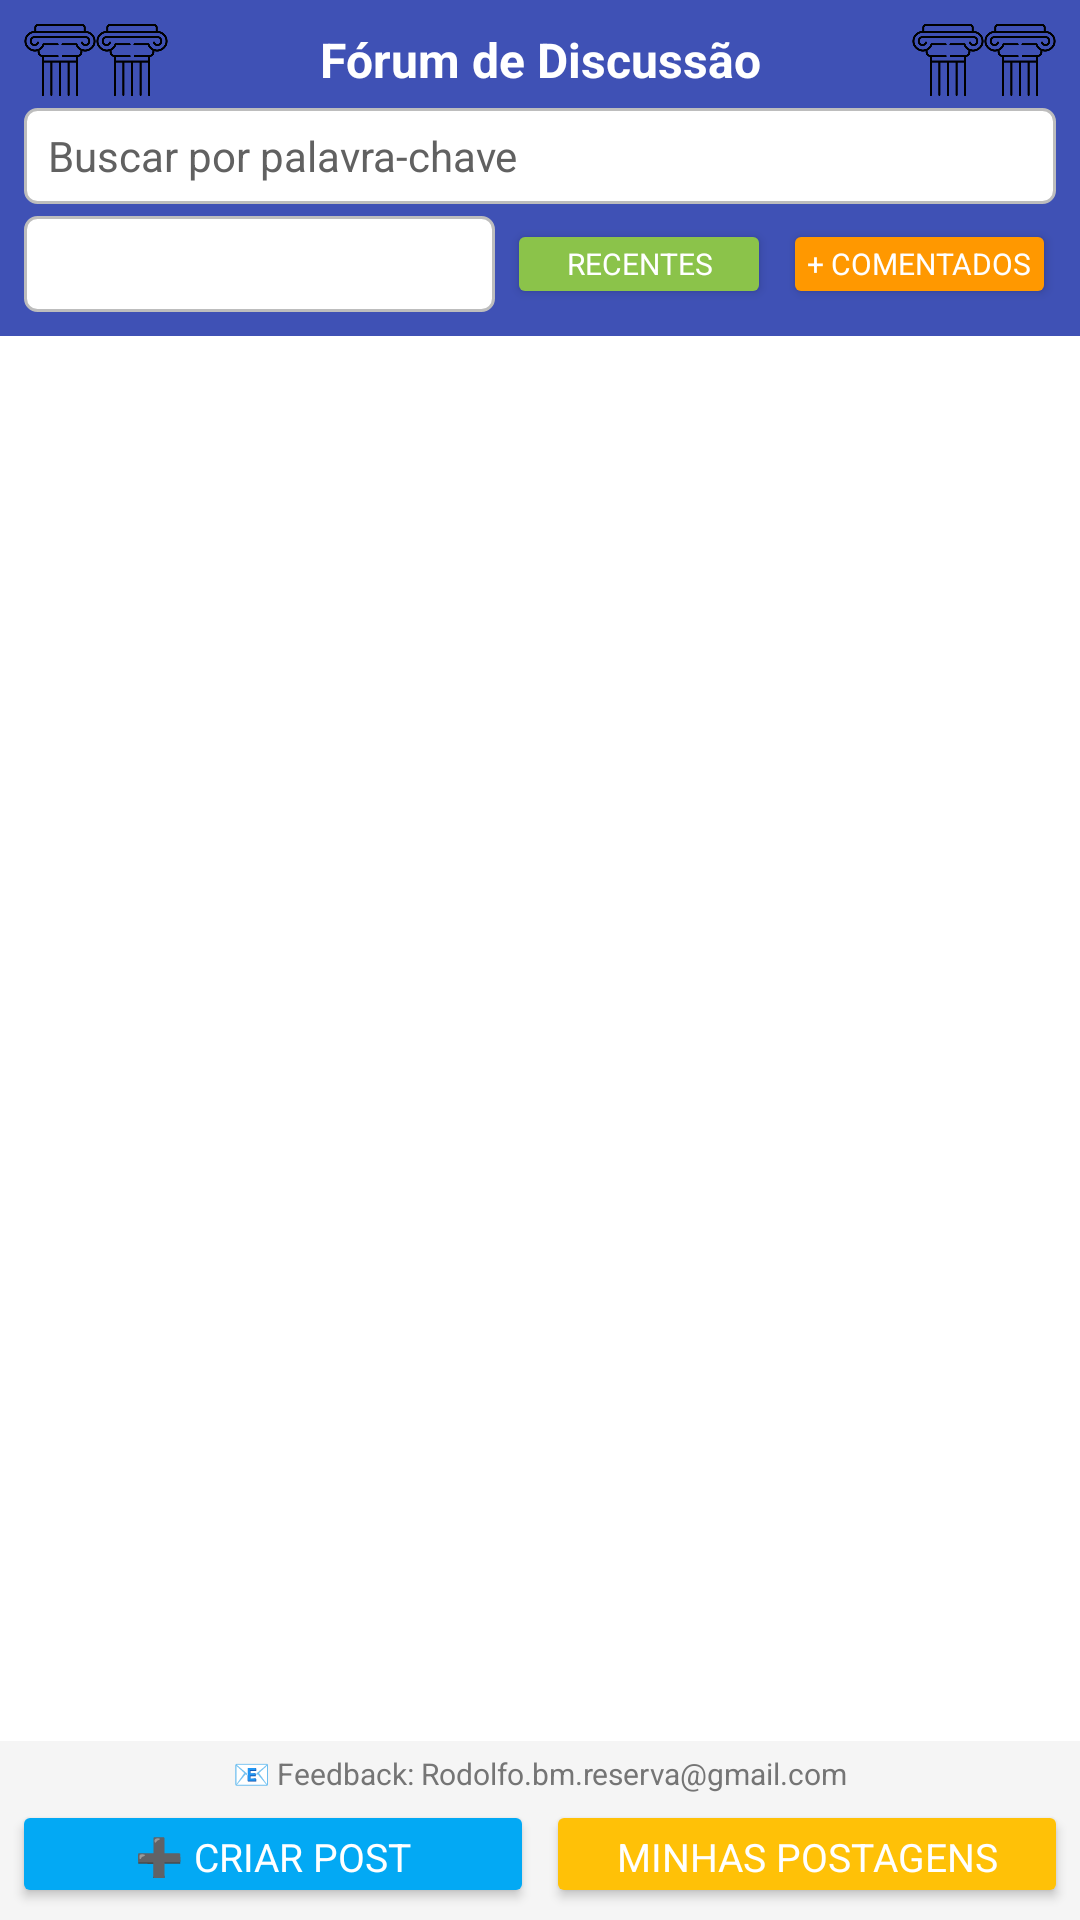

Screen size 1080×1920. Icon name, then its box in pixels as (x1, y1, x2, y2):
Ícone do Fórum: (24, 24, 96, 96), (96, 24, 168, 96), (912, 24, 984, 96), (984, 24, 1056, 96)
